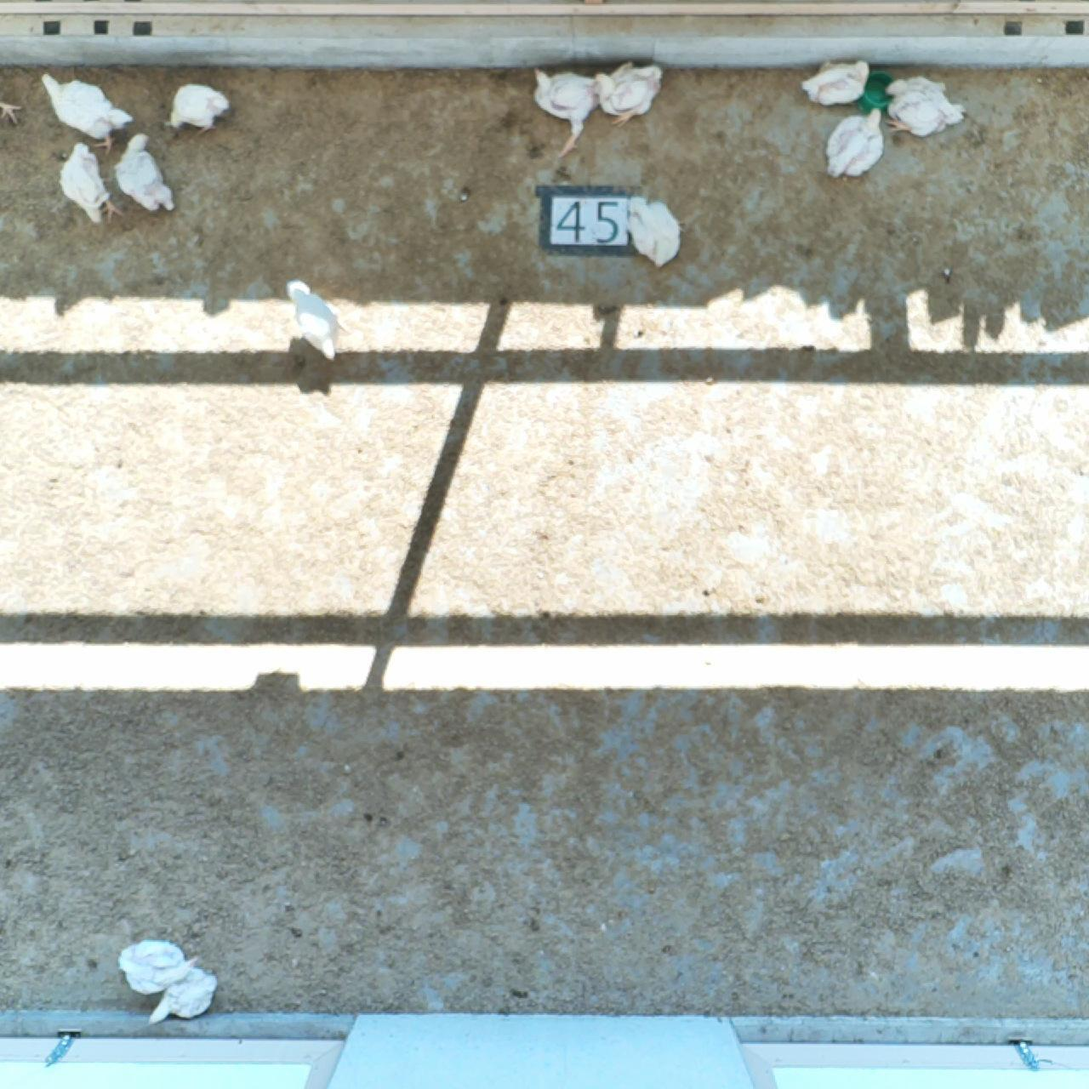chicken: (37, 68, 130, 142), (531, 65, 595, 157), (57, 141, 122, 226), (115, 134, 176, 215), (884, 74, 964, 135), (286, 278, 345, 360), (596, 61, 664, 123), (828, 105, 884, 178), (149, 969, 218, 1025), (626, 194, 680, 265), (117, 939, 189, 992), (166, 81, 228, 133), (804, 57, 871, 104)
